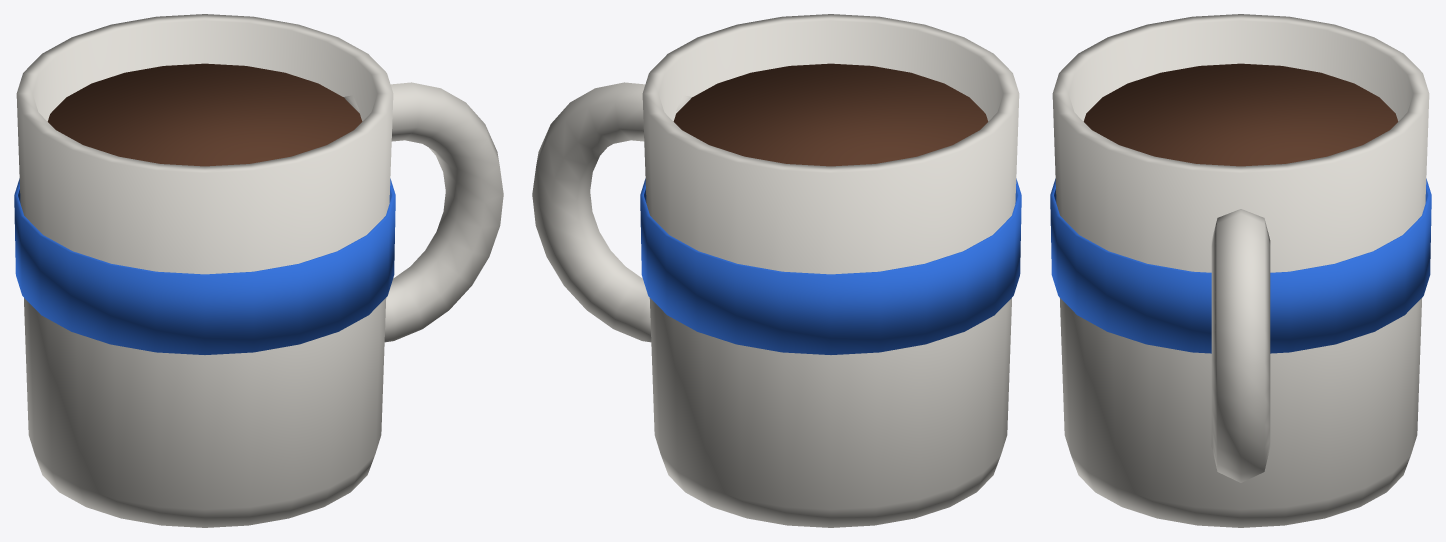
Rendered from RmMug.fbx.
The picture shows the model from 3 angles, left to right: view 1: azimuth 30°, elevation 25°; view 2: azimuth 150°, elevation 25°; view 3: azimuth 270°, elevation 25°; orthographic projection.
Parts seen in each view (by area): view 1: RmMugBody, Stripe, Coffee; view 2: RmMugBody, Stripe, Coffee; view 3: RmMugBody, Stripe, Coffee.
Part boxes in pixels (left/top/right/bottom): RmMugBody: left=16, top=14, right=503, bottom=527; Stripe: left=14, top=178, right=395, bottom=354; Coffee: left=47, top=63, right=362, bottom=166; RmMugBody: left=532, top=14, right=1019, bottom=527; Stripe: left=640, top=178, right=1021, bottom=354; Coffee: left=673, top=63, right=988, bottom=166; RmMugBody: left=1052, top=14, right=1429, bottom=527; Stripe: left=1050, top=178, right=1431, bottom=353; Coffee: left=1083, top=63, right=1398, bottom=166.
Size of the model in its own units: 0.1664 by 0.125 by 0.119.
